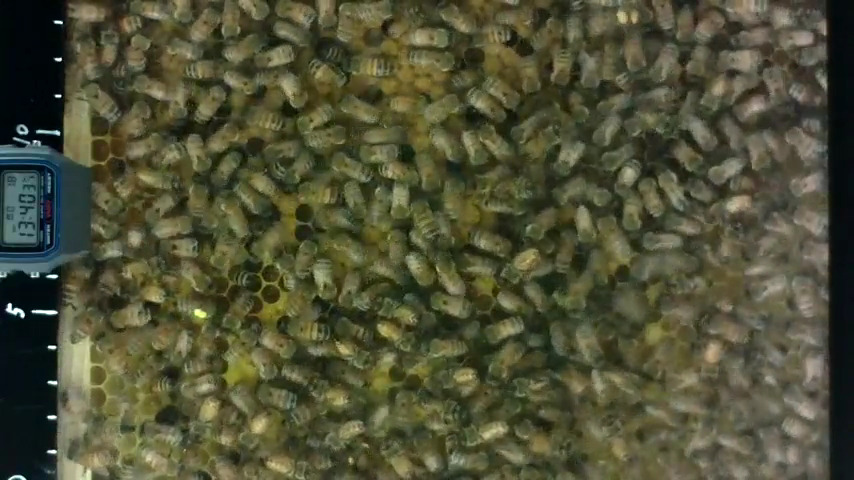hati: (82, 82, 123, 123), (437, 2, 481, 35), (310, 256, 339, 302), (338, 94, 379, 126), (483, 315, 526, 344), (343, 55, 397, 78), (405, 49, 460, 71), (185, 132, 211, 177), (281, 318, 331, 341), (240, 107, 286, 131), (294, 182, 341, 205), (552, 45, 572, 90)
